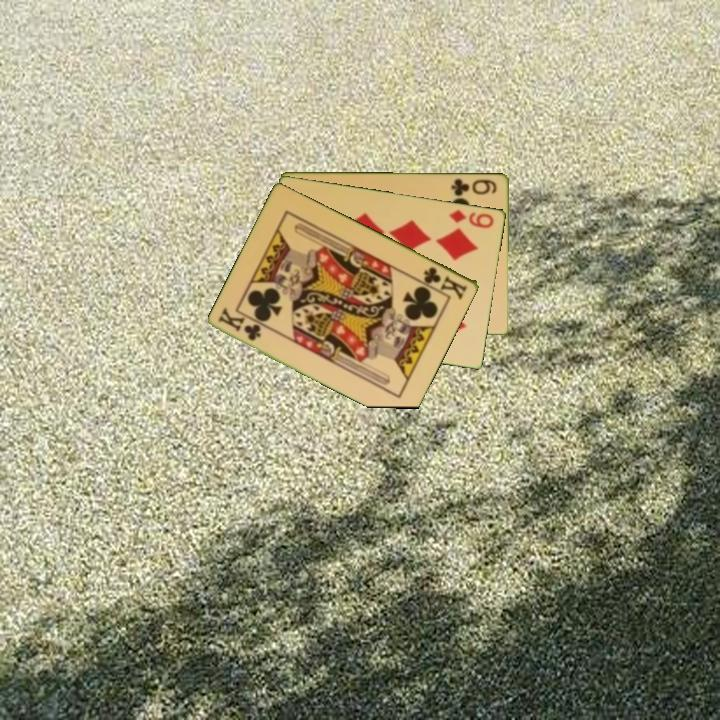6c: (447, 175, 500, 199)
9d: (445, 205, 497, 231)
Kc: (420, 263, 471, 302), (215, 306, 264, 344)
